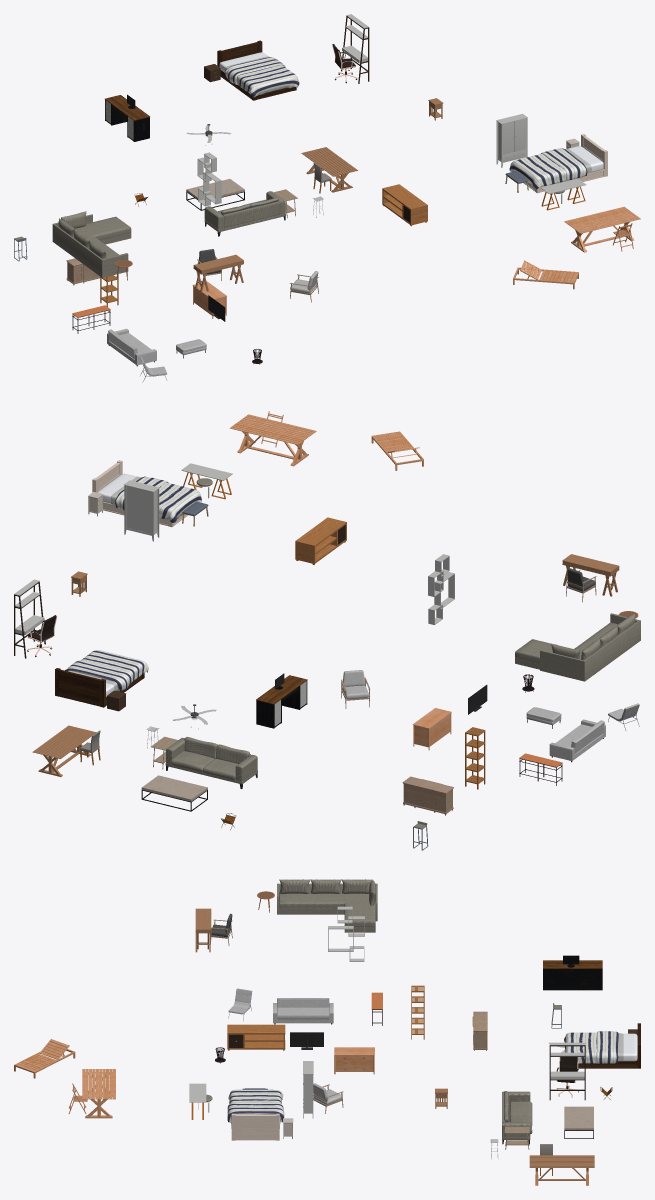
Rendered from LIVING_OBSERVATORY_LAYER_03_FURNITURE.glb.
The picture shows the model from 3 angles, top to bottom: view 1: azimuth 30°, elevation 25°; view 2: azimuth 150°, elevation 25°; view 3: azimuth 270°, elevation 25°; orthographic projection. The views are drawn at different scales.
Parts seen in each view (by area): view 1: SM_Sofa5, SM_Bed1.001, SM_Bed1, SM_Sofa3, SM_DiningTable2.001, SM_Cupboard1, SM_Desk1, SM_TVUnit1, SM_DiningTable2, SM_Sofa9, SM_WallShelf2, SM_OutdoorBed1 (+6 smaller); view 2: SM_Sofa5, SM_Bed1, SM_Sofa3, SM_Bed1.001, SM_DiningTable2.001, SM_Cupboard1, SM_Desk1, SM_TVUnit1, SM_DiningTable2, SM_Cabinet1, SM_Sofa9, SM_CoffeeTable1 (+8 smaller); view 3: SM_Sofa5, SM_Bed1.001, SM_Bed1, SM_Desk1, SM_Sofa9, SM_TVUnit1, SM_Sofa3, SM_DiningTable2.001, SM_DiningTable2, SM_OutdoorBed1, SM_Desk3, SM_CoffeeTable1 (+10 smaller).
Part boxes in pixels (x1,y1,x2,y2): SM_Sofa5: [52, 211, 131, 277]; SM_Bed1.001: [509, 134, 607, 193]; SM_Bed1: [217, 40, 299, 100]; SM_Sofa3: [204, 191, 285, 236]; SM_DiningTable2.001: [564, 206, 640, 252]; SM_Cupboard1: [496, 113, 527, 167]; SM_Desk1: [105, 95, 150, 141]; SM_TVUnit1: [382, 184, 427, 226]; SM_DiningTable2: [301, 147, 357, 192]; SM_Sofa9: [107, 328, 156, 366]; SM_WallShelf2: [197, 152, 221, 206]; SM_OutdoorBed1: [513, 260, 578, 289]; SM_Sofa5: [515, 613, 640, 681]; SM_Bed1: [55, 650, 148, 707]; SM_Sofa3: [165, 737, 257, 788]; SM_Bed1.001: [92, 460, 201, 527]; SM_DiningTable2.001: [230, 414, 316, 466]; SM_Cupboard1: [124, 480, 159, 541]; SM_Desk1: [256, 675, 307, 728]; SM_TVUnit1: [295, 517, 346, 564]; SM_DiningTable2: [32, 725, 96, 776]; SM_Cabinet1: [402, 776, 453, 815]; SM_Sofa9: [549, 719, 605, 762]; SM_CoffeeTable1: [141, 775, 207, 811]; SM_Sofa5: [277, 879, 377, 932]; SM_Bed1.001: [227, 1089, 284, 1140]; SM_Bed1: [564, 1023, 640, 1068]; SM_Desk1: [543, 960, 602, 990]; SM_Sofa9: [273, 998, 333, 1024]; SM_TVUnit1: [227, 1024, 285, 1050]; SM_Sofa3: [502, 1091, 532, 1144]; SM_DiningTable2.001: [82, 1069, 115, 1118]; SM_DiningTable2: [529, 1155, 594, 1185]; SM_OutdoorBed1: [14, 1039, 75, 1078]; SM_Desk3: [549, 1042, 585, 1100]; SM_CoffeeTable1: [564, 1106, 593, 1138].
Size of the model in its own units: 2047 by 643 by 2269.
39 materials, 37 textured.
